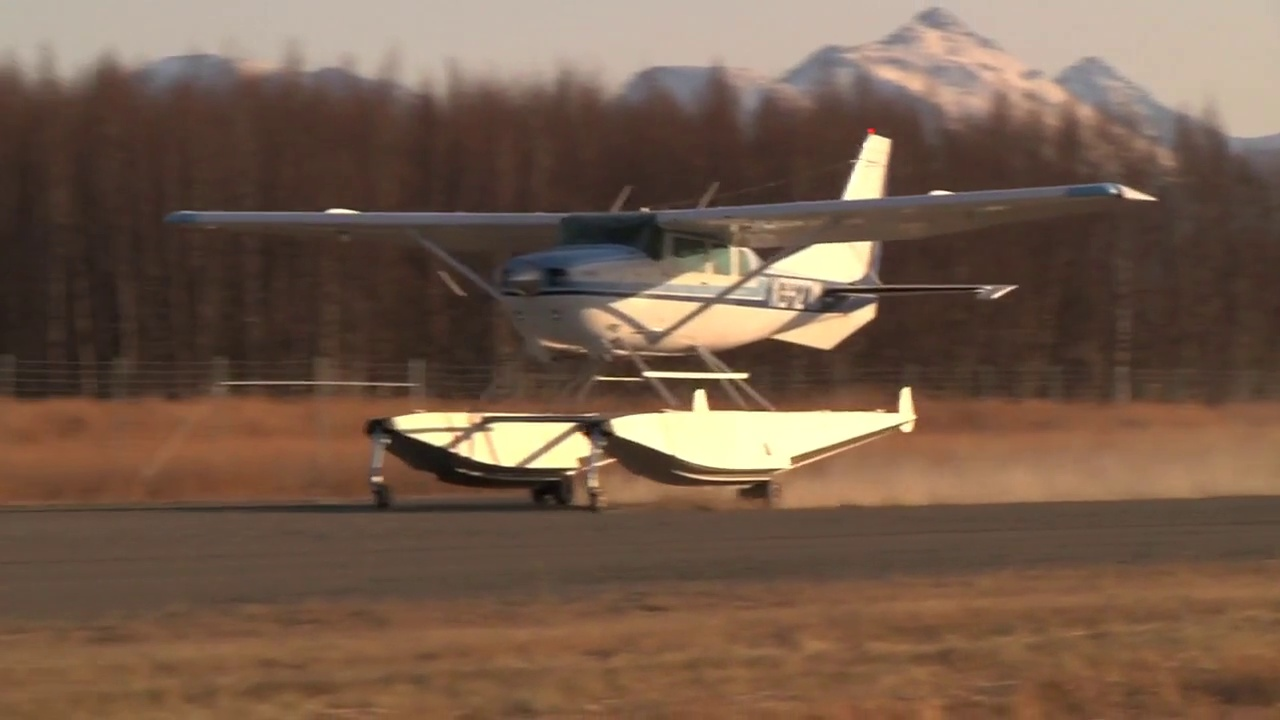plane: (163, 129, 1160, 509)
